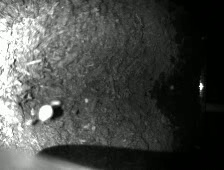corn: (38, 105, 53, 122), (49, 100, 62, 106), (84, 98, 94, 104), (170, 85, 174, 90)
